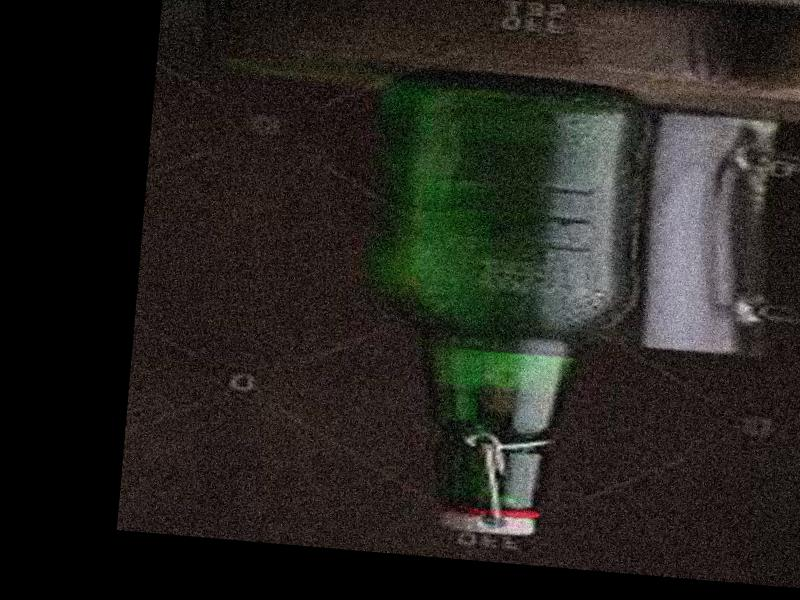Beer: (355, 66, 646, 542)
